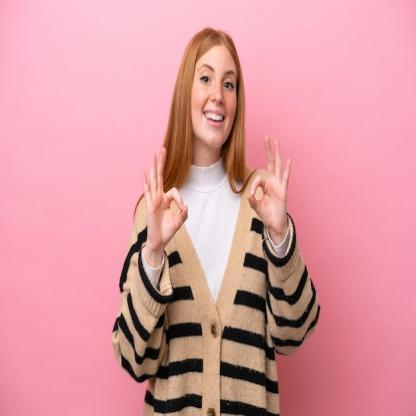ok: (140, 144, 190, 250), (245, 130, 294, 235)
